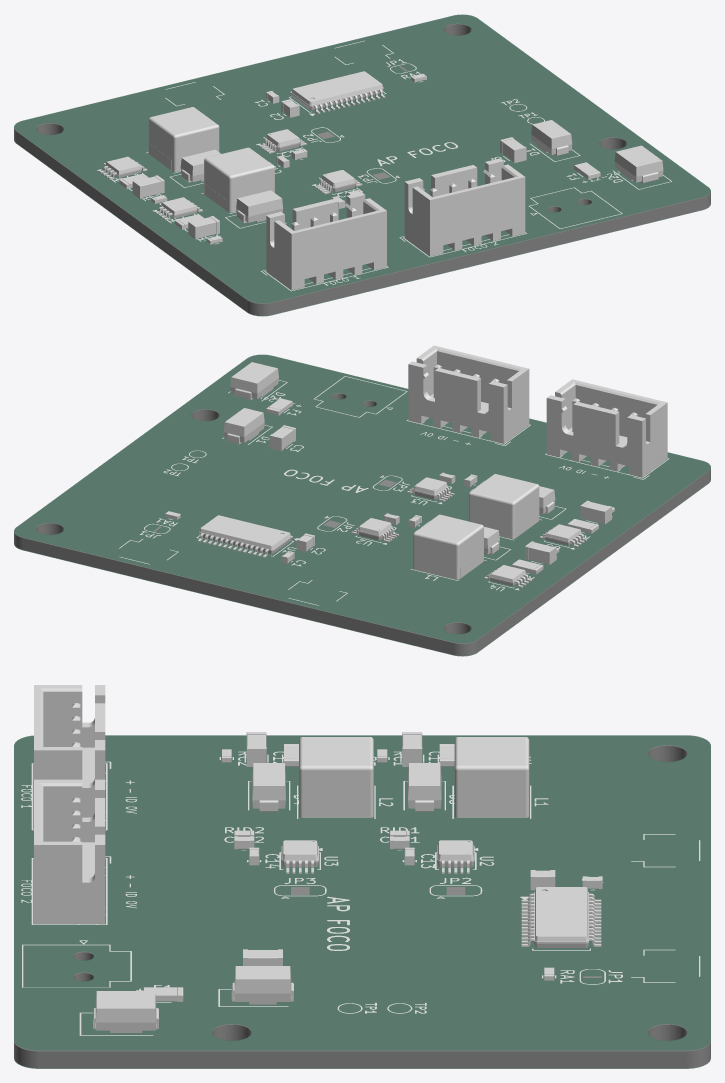
File: AP_FOCO.glb
3 renders of one model, top to bottom at view 1: azimuth 30°, elevation 25°; view 2: azimuth 150°, elevation 25°; view 3: azimuth 270°, elevation 25°, orthographic. The views are drawn at different scales.
Visible parts, largest first — view 1: =>[0:1:1:19], =>[0:1:1:17], J5, J4, L1, L2, =>[0:1:1:15], U1, D2, D4, D1, =>[0:1:1:18] (+8 smaller); view 2: =>[0:1:1:19], =>[0:1:1:17], J5, J4, L1, L2, =>[0:1:1:15], U1, D2, D1, =>[0:1:1:18], U3 (+6 smaller); view 3: =>[0:1:1:19], =>[0:1:1:17], J5, J4, =>[0:1:1:15], L1, L2, U1, D2, D1, D4, D3 (+6 smaller).
Part boxes in pixels (bbox=[...]): =>[0:1:1:19]: bbox=[14, 15, 710, 315]; =>[0:1:1:17]: bbox=[14, 14, 710, 303]; J5: bbox=[404, 158, 525, 256]; J4: bbox=[266, 192, 386, 290]; L1: bbox=[148, 107, 219, 172]; L2: bbox=[204, 147, 274, 212]; =>[0:1:1:15]: bbox=[97, 40, 671, 291]; U1: bbox=[290, 71, 385, 113]; D2: bbox=[614, 145, 663, 183]; D4: bbox=[236, 190, 283, 223]; D1: bbox=[531, 120, 572, 156]; =>[0:1:1:18]: bbox=[14, 141, 710, 316]; =>[0:1:1:19]: bbox=[14, 355, 710, 655]; =>[0:1:1:17]: bbox=[14, 354, 710, 643]; J5: bbox=[408, 345, 529, 443]; J4: bbox=[546, 379, 667, 477]; L1: bbox=[413, 514, 483, 579]; L2: bbox=[468, 474, 539, 538]; =>[0:1:1:15]: bbox=[119, 376, 669, 605]; U1: bbox=[197, 515, 292, 557]; D2: bbox=[230, 362, 278, 399]; D1: bbox=[223, 408, 264, 444]; =>[0:1:1:18]: bbox=[14, 480, 710, 656]; U3: bbox=[407, 477, 454, 501]; =>[0:1:1:19]: bbox=[14, 736, 710, 1068]; =>[0:1:1:17]: bbox=[14, 735, 710, 1050]; J5: bbox=[34, 779, 105, 923]; J4: bbox=[34, 685, 105, 817]; =>[0:1:1:15]: bbox=[21, 751, 700, 1035]; L1: bbox=[454, 737, 529, 817]; L2: bbox=[299, 737, 373, 817]; U1: bbox=[521, 887, 601, 947]; D2: bbox=[93, 991, 158, 1032]; D1: bbox=[231, 966, 293, 1004]; D4: bbox=[252, 763, 285, 811]; D3: bbox=[408, 763, 441, 811].
Size of the model in its own units: 0.06 by 0.0104 by 0.056.
